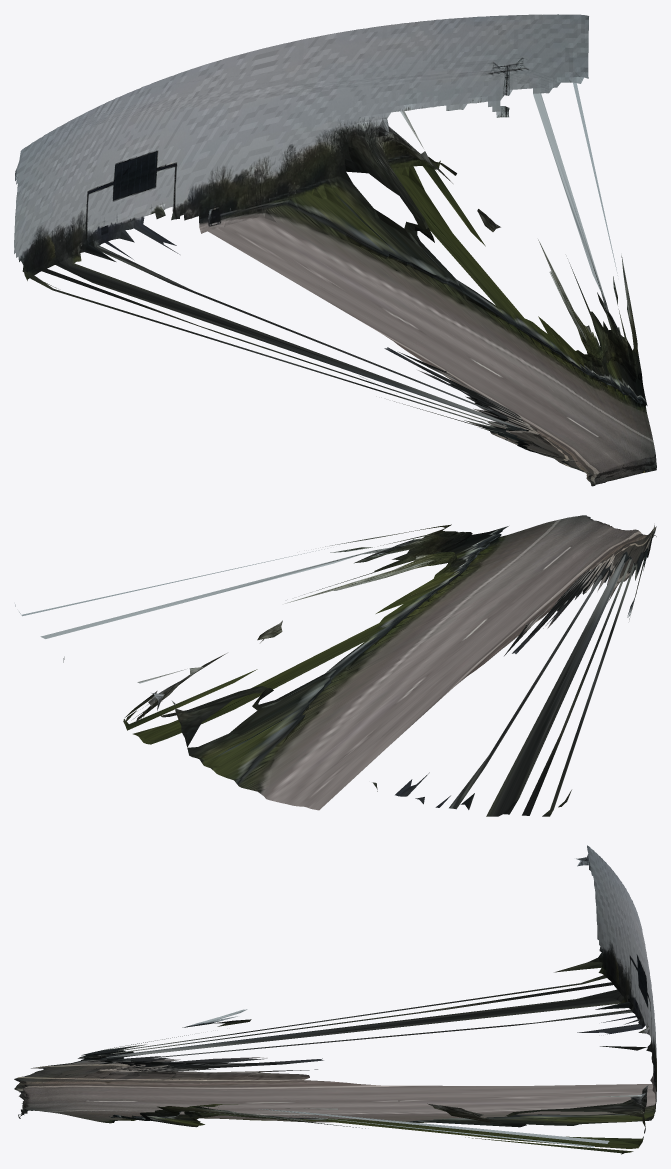
3 views of the same model, one above another, from view 1: azimuth 30°, elevation 25°; view 2: azimuth 150°, elevation 25°; view 3: azimuth 270°, elevation 25° (orthographic). The views are drawn at different scales.
Visible parts, largest first — view 1: defaultobject; view 2: defaultobject; view 3: defaultobject.
Boxes of the visible parts, x1,y1,x2,y2 form: defaultobject: (14, 14, 656, 486); defaultobject: (15, 515, 656, 816); defaultobject: (14, 845, 656, 1154).
Size of the model in its own units: 40.66 by 11.71 by 44.7.
1 material, 1 textured.
